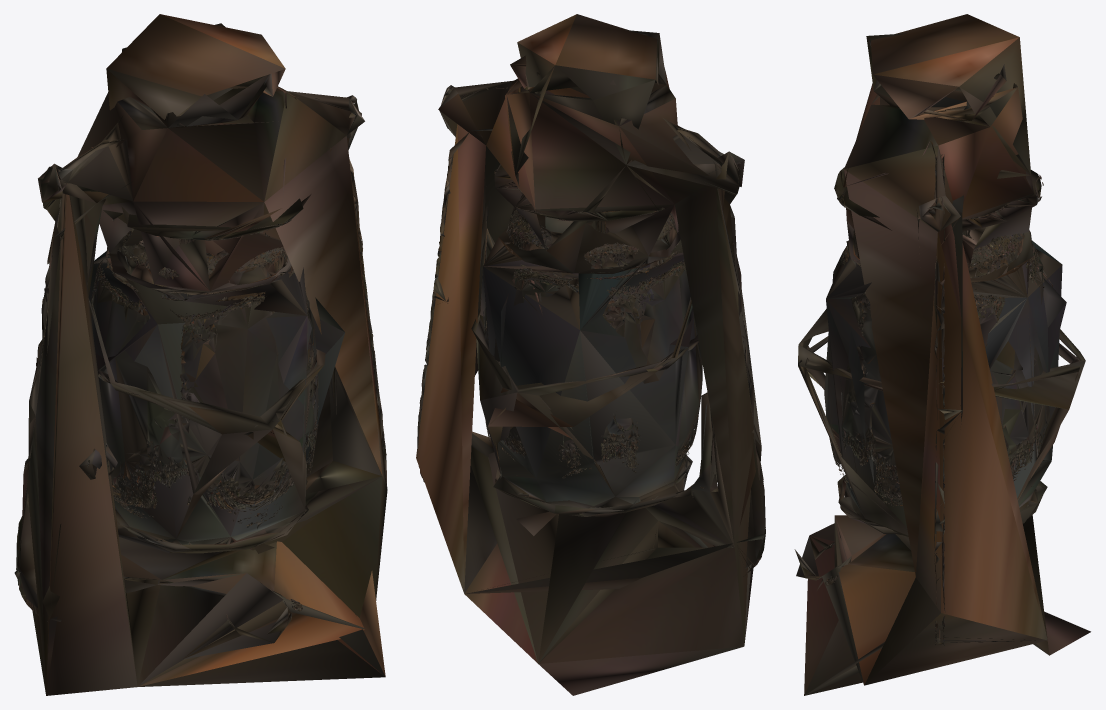
The model's file is prop_storm_glass_01.glb.
3 views of the same model, side by side, from view 1: azimuth 30°, elevation 25°; view 2: azimuth 150°, elevation 25°; view 3: azimuth 270°, elevation 25° (orthographic). The views are drawn at different scales.
Visible parts, largest first — view 1: geometry_0; view 2: geometry_0; view 3: geometry_0.
Boxes of the visible parts, box(x1,y1,x2,y2) form: geometry_0: box(14, 14, 387, 695); geometry_0: box(416, 14, 765, 695); geometry_0: box(794, 14, 1090, 695).
Size of the model in its own units: 0.6128 by 0.9946 by 0.4311.
1 material, 1 textured.
